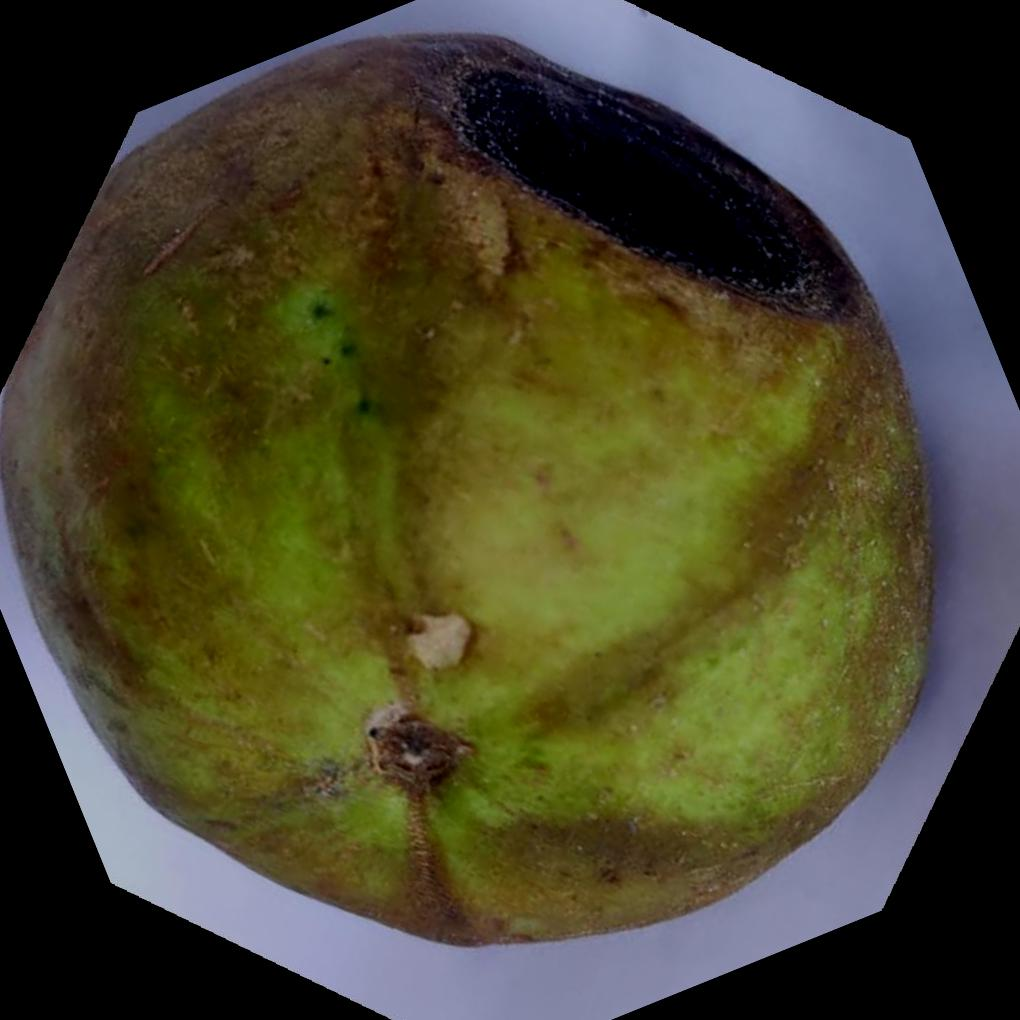FreshOrange: (1, 30, 939, 949)
